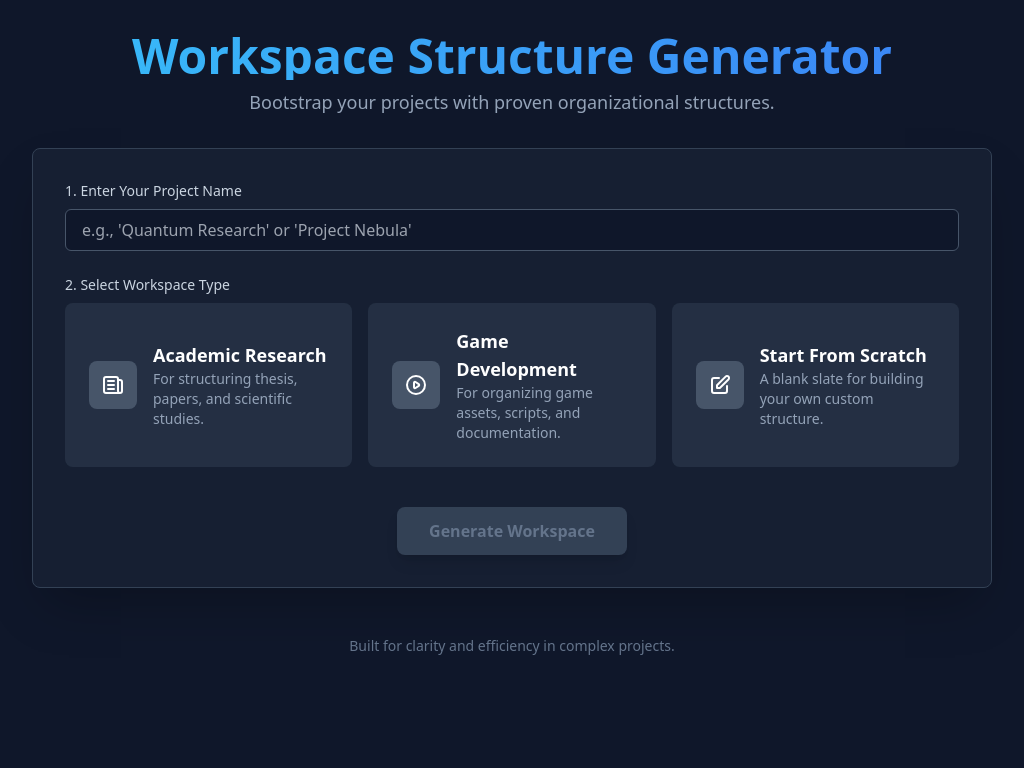
it: App Component › enables generate button only when project name and type are selected
Check: the button "Generate Workspace" is disabled, box [397,507,627,555]
In the field labelled "1. Enter Your Project Name": (512,230) [65,209,959,251], type "My Test App"
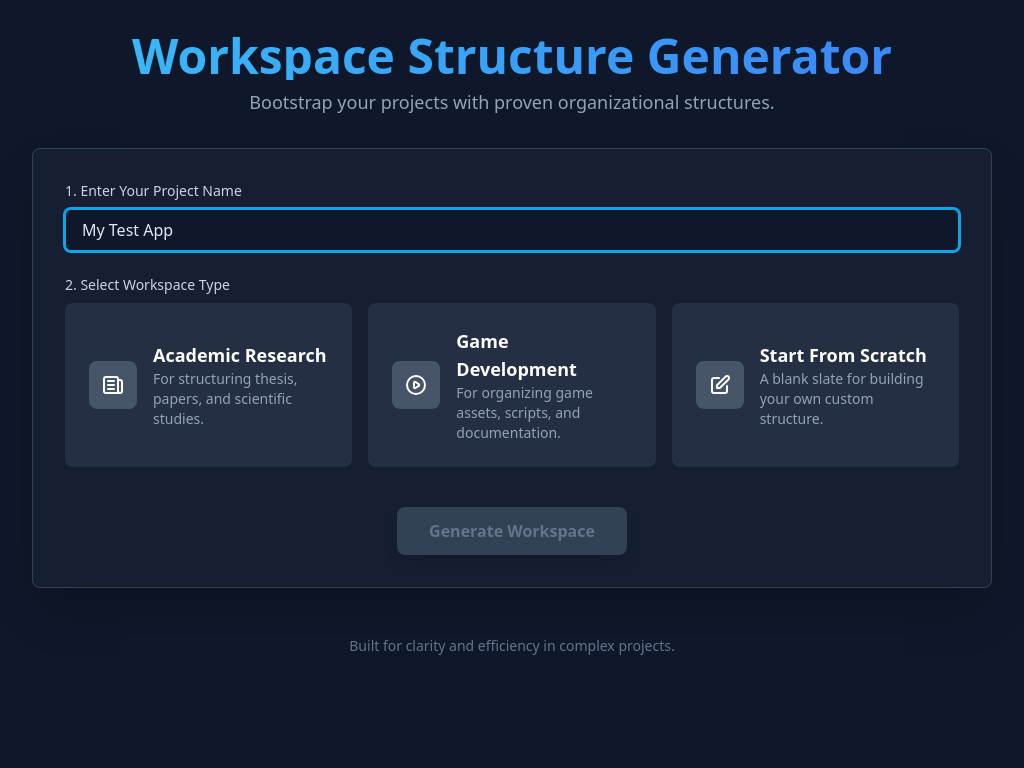
Check: the button "Generate Workspace" is disabled, box [397,507,627,555]
Click the button "Game Development": (512,385) [368,303,656,467]
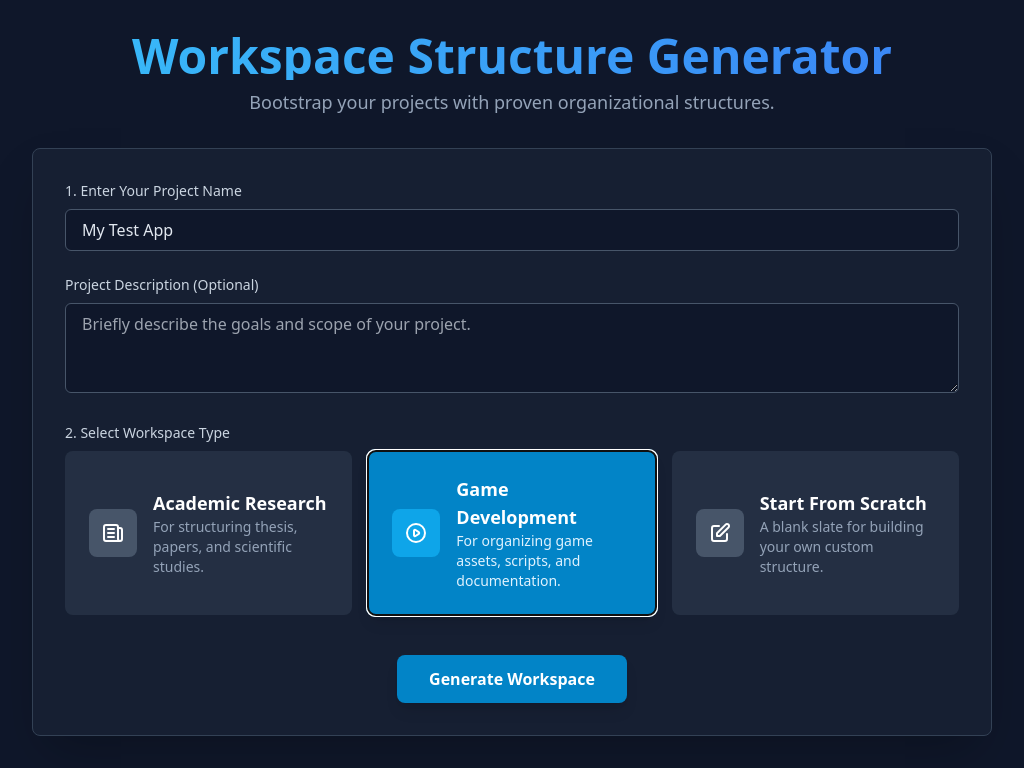
Check: the button "Generate Workspace" is enabled, box [397,655,627,703]
